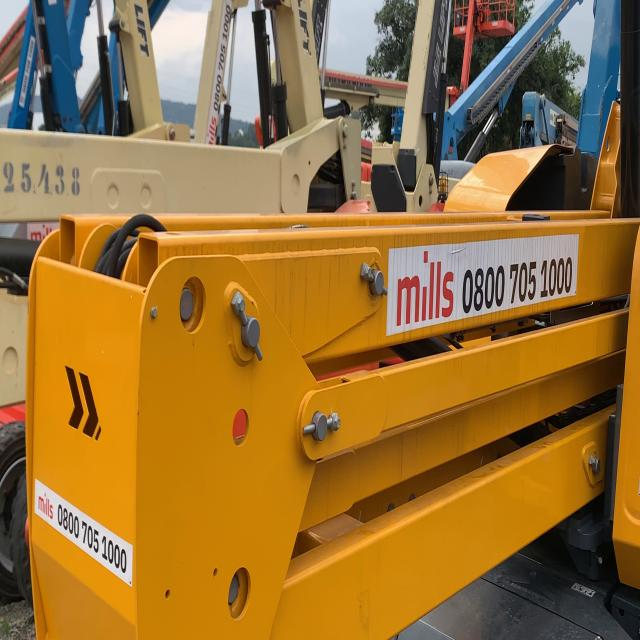Adesivo Longo: (385, 231, 581, 340), (34, 476, 134, 589)
